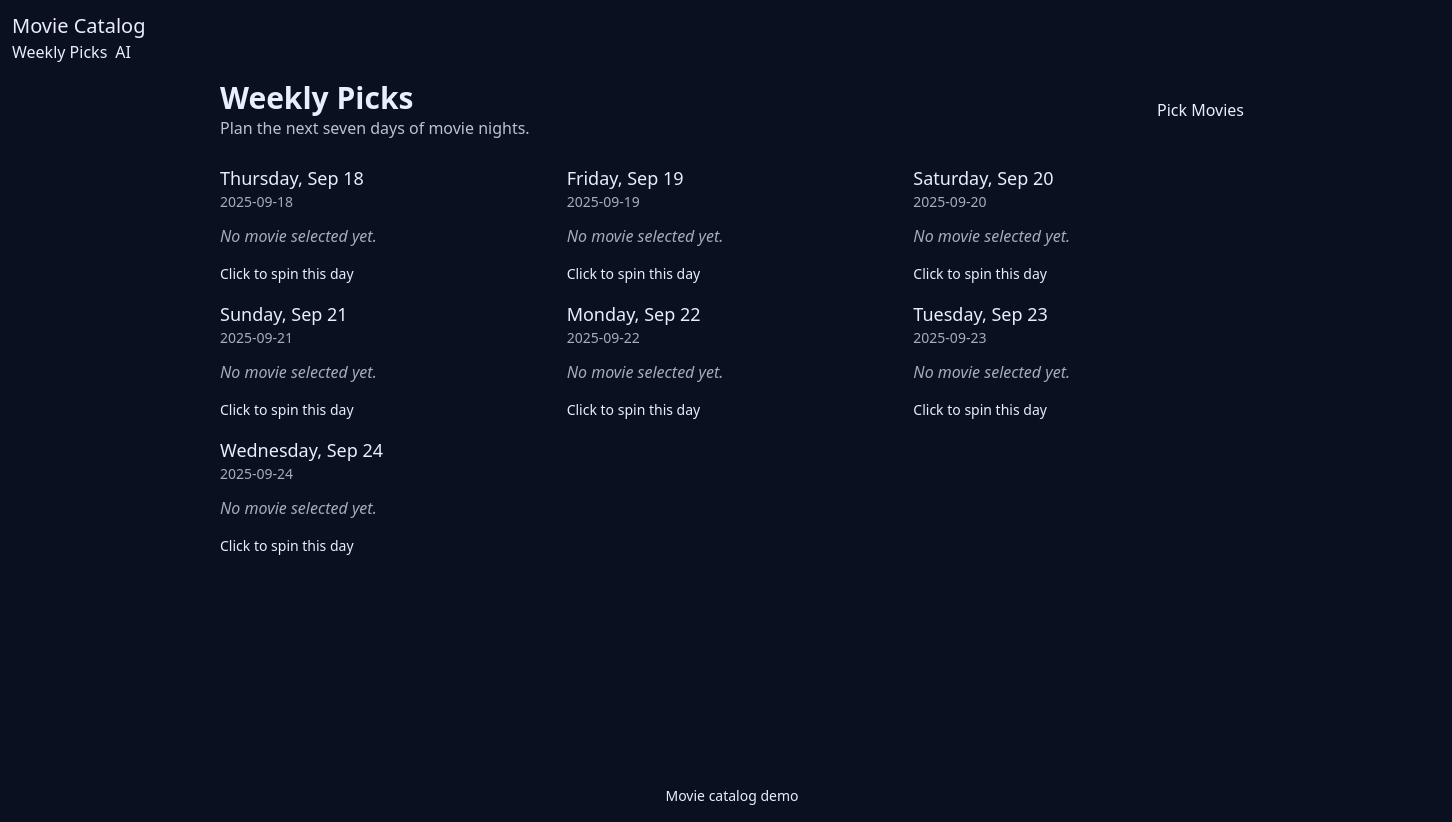
WeeklyPicks memory logic › avoids repeating movies when picking the full schedule
The image size is (1452, 822).
Click the button "Pick Movies" at (1200, 110), box [1157,98,1244,122]
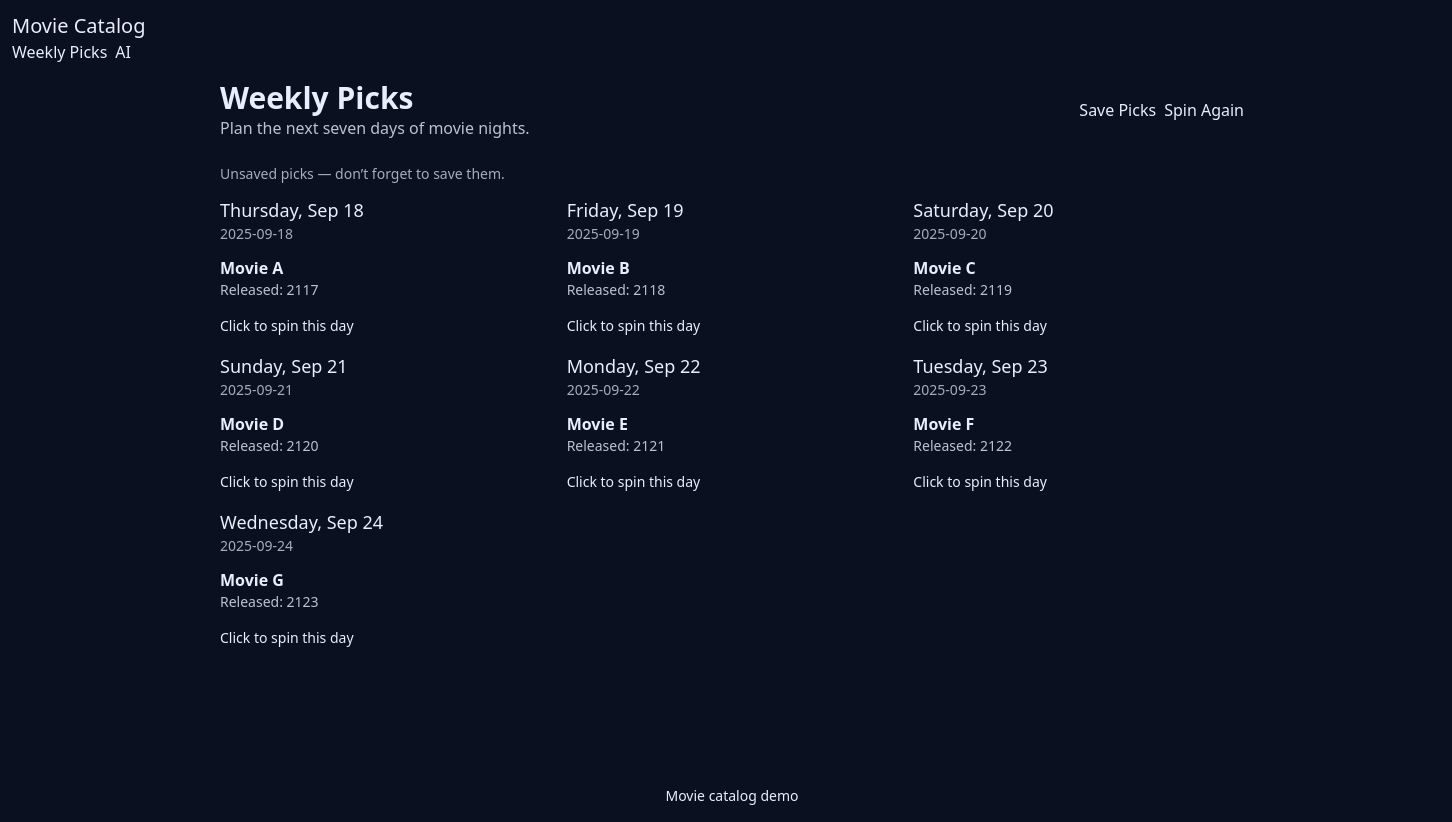
Now the text "Movie A" is shown once, box [220,257,283,279]
Now the text "Movie B" is shown once, box [567,257,630,279]
Now the text "Movie C" is shown once, box [913,257,976,279]
